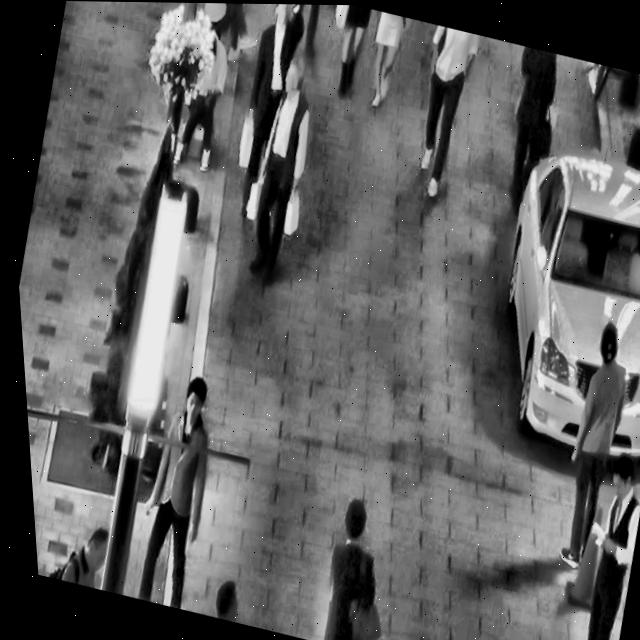light_vehicle: (453, 118, 640, 474)
